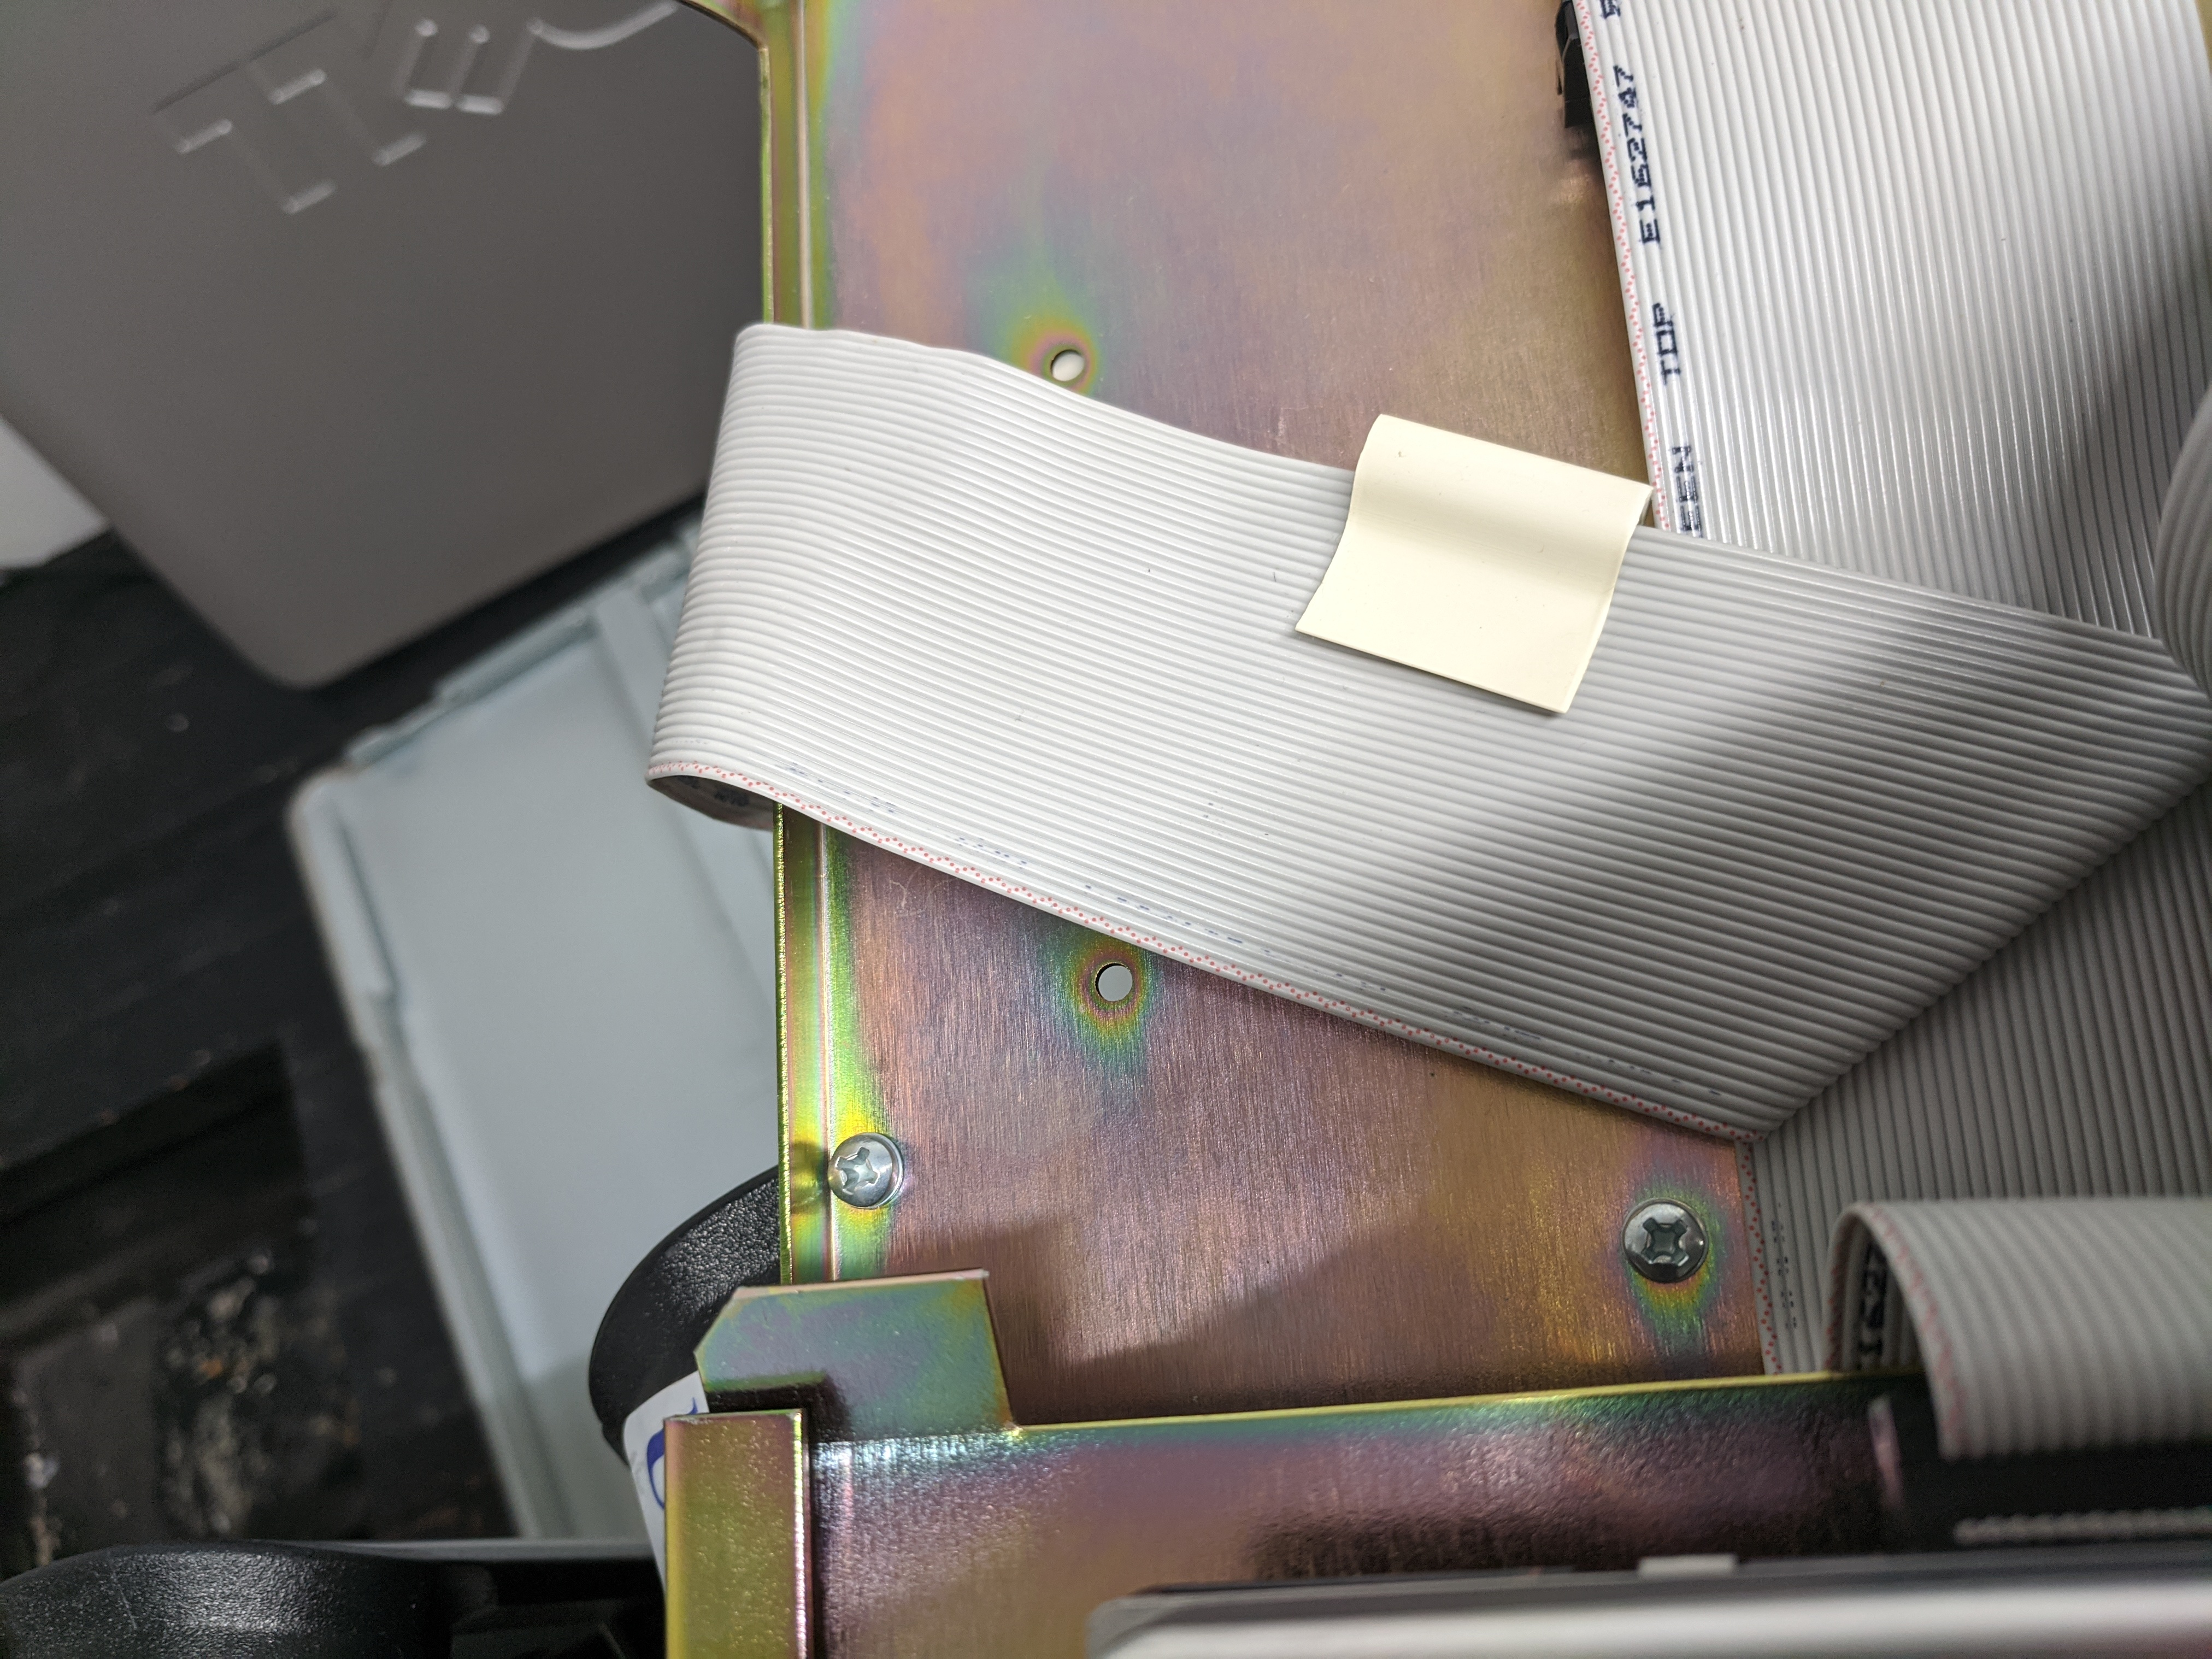cross_recessed_screw: (1611, 1188, 1710, 1286), (815, 1122, 904, 1211)
